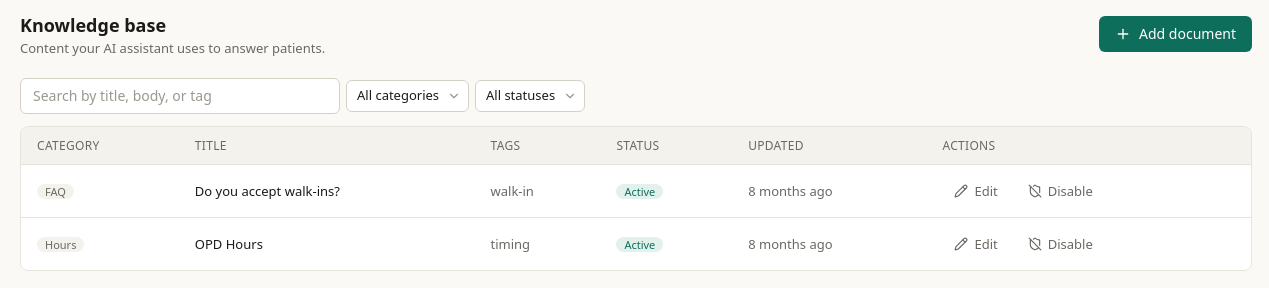
Test: KnowledgePage › filters the list by search text and by category
Expected: the text "OPD Hours" is shown, [179,218,474,270]
Type "walk-in" into the search field named "Search knowledge documents" at x=180, y=96, box [20,78,340,114]
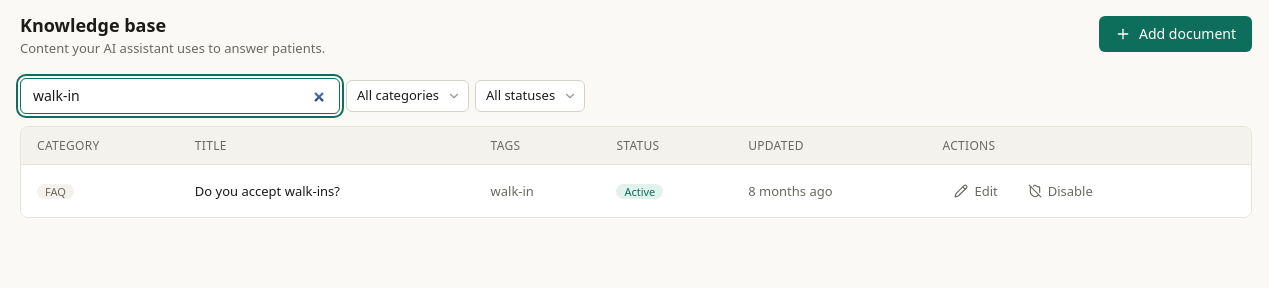
Expected: the text "Do you accept walk-ins?" is shown, [179,165,474,217]
Now the text "OPD Hours" is gone
Clear the search field named "Search knowledge documents" at x=180, y=96, box [20,78,340,114]
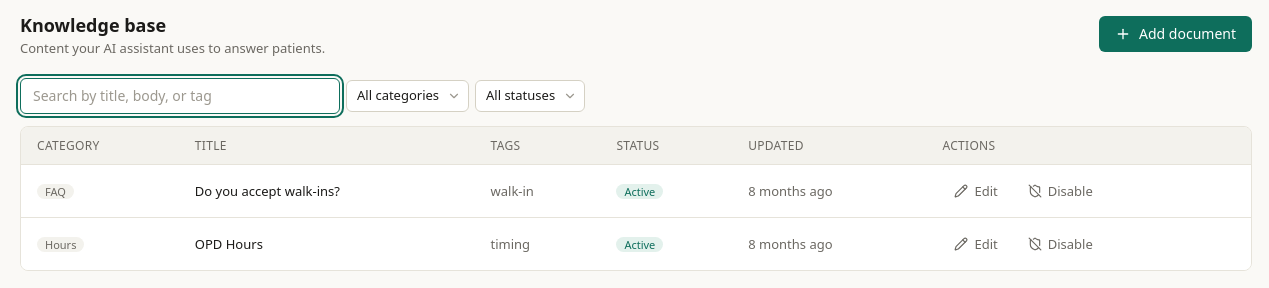
Select "Hours" in the dropdown named "Filter by category" at x=408, y=96, box [346,80,469,112]
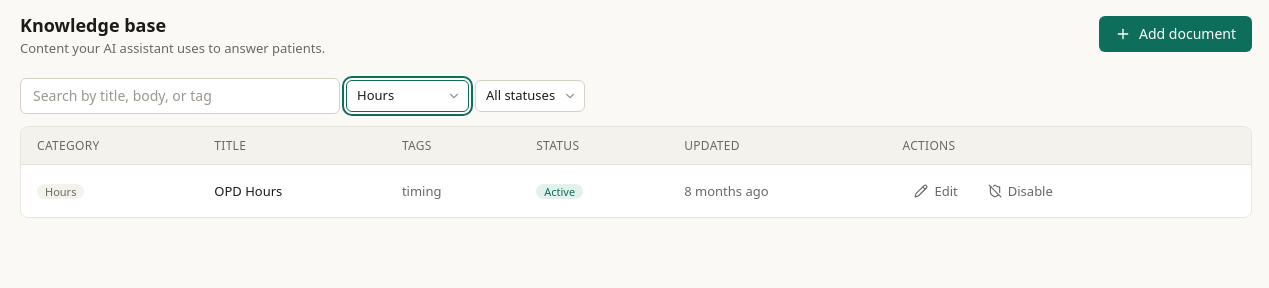
Now the text "OPD Hours" is shown, box [198,165,386,217]
Now the text "Do you accept walk-ins?" is gone
